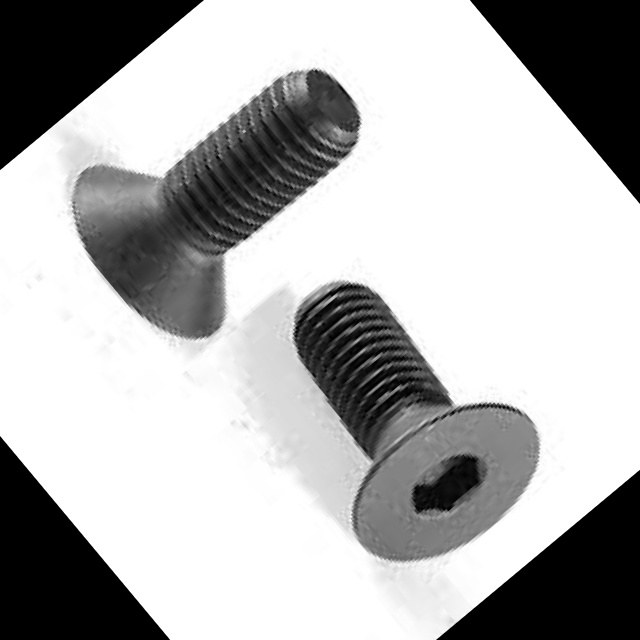allen: (329, 367, 572, 600)
